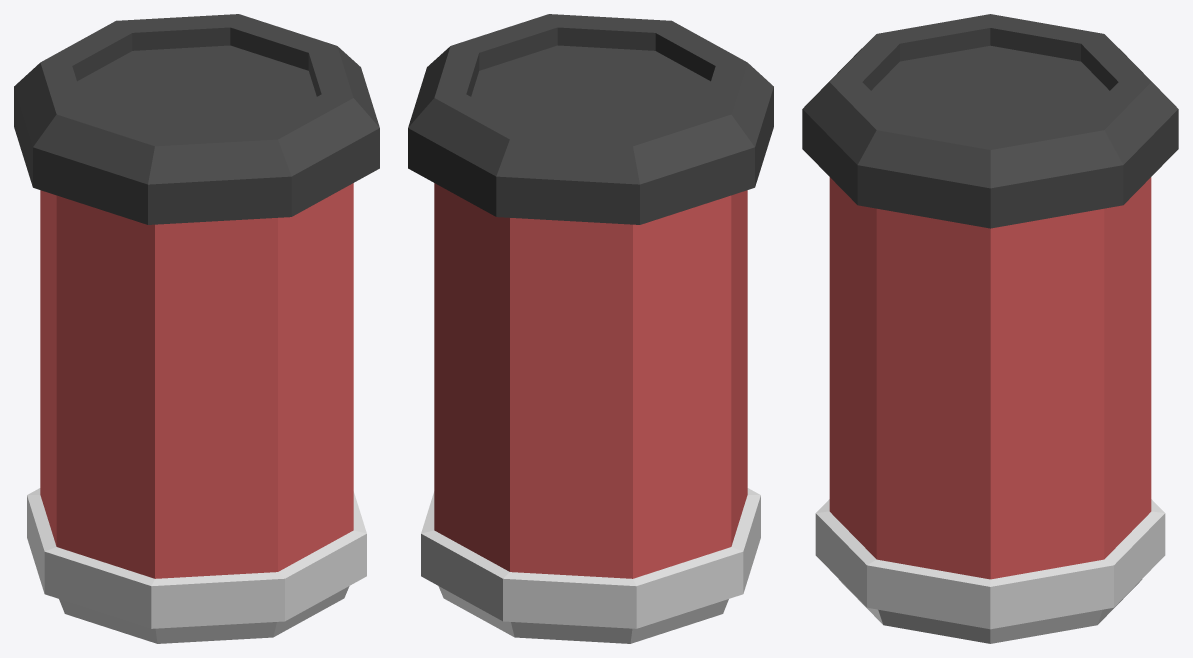
File: Barril.fbx
3 views of the same model, side by side, from view 1: azimuth 30°, elevation 25°; view 2: azimuth 150°, elevation 25°; view 3: azimuth 270°, elevation 25° (orthographic).
Visible parts, largest first — view 1: pCylinder1; view 2: pCylinder1; view 3: pCylinder1.
Boxes of the visible parts, x1,y1,x2,y2 form: pCylinder1: (14,14,379,643); pCylinder1: (408,14,773,643); pCylinder1: (802,14,1178,643).
Size of the model in its own units: 82.8 by 121 by 82.8.
